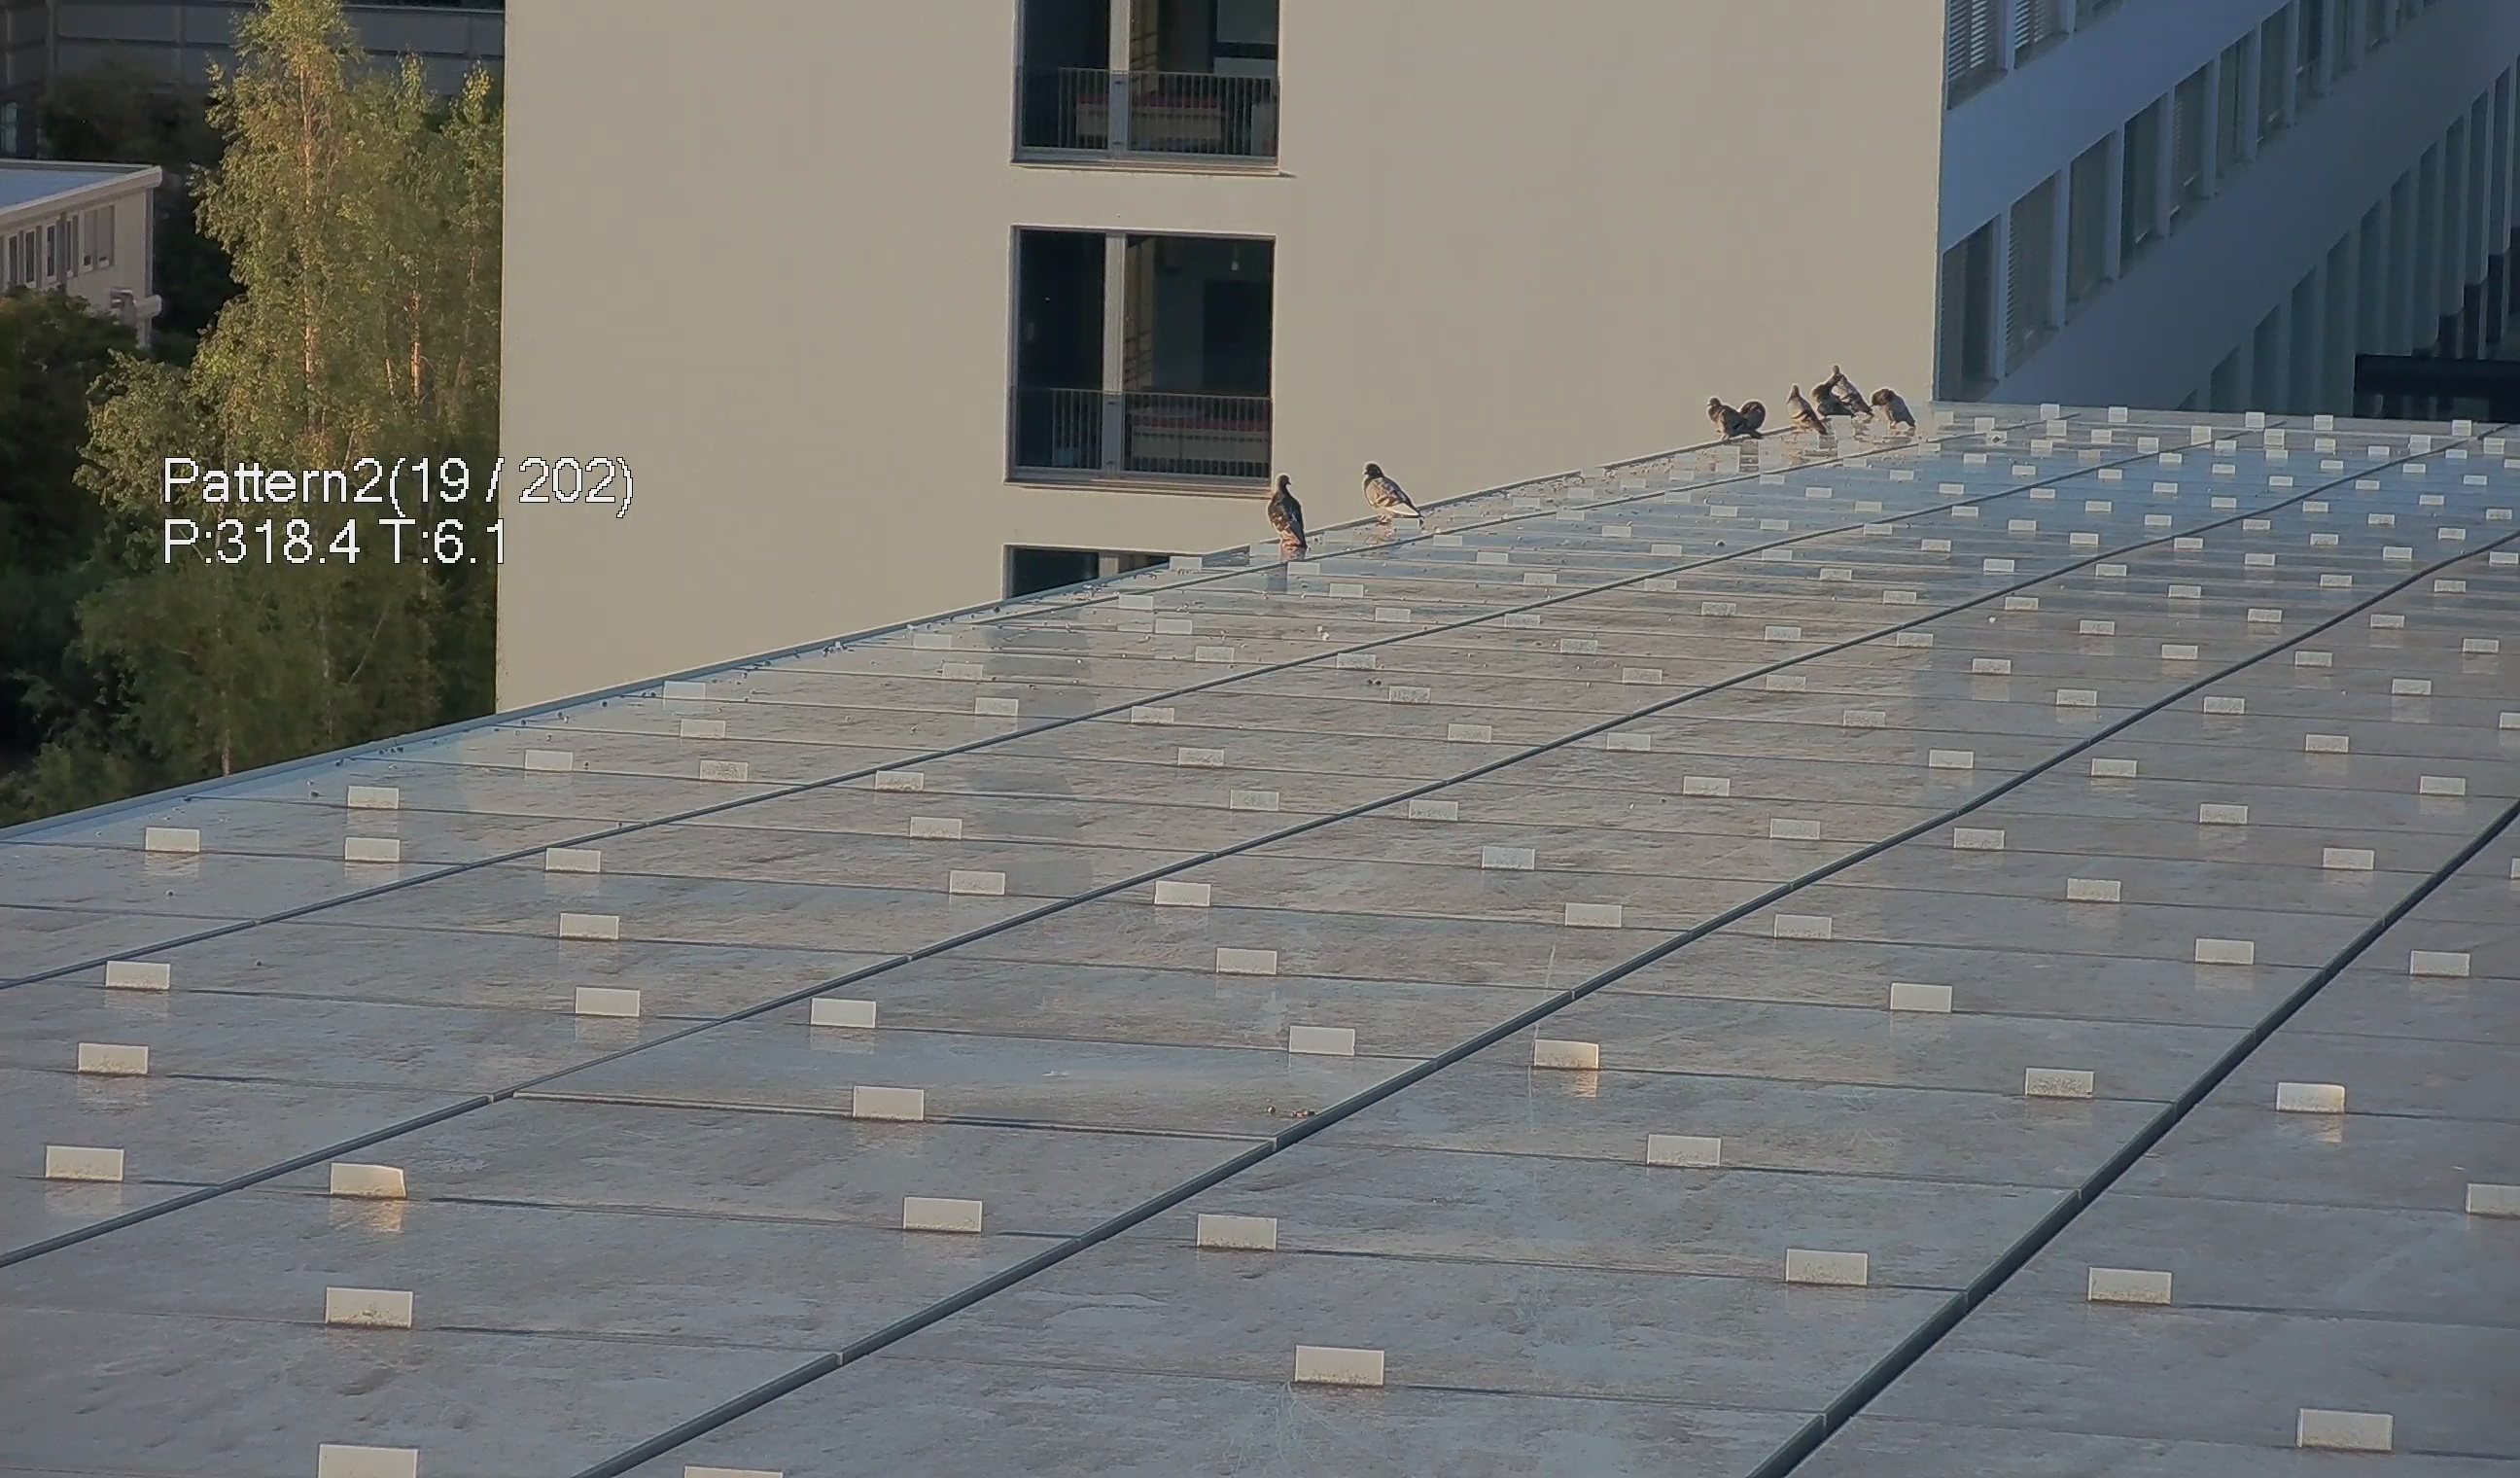Pigeon: (1359, 454, 1435, 530), (1266, 468, 1314, 554), (1869, 380, 1924, 433), (1706, 399, 1762, 445), (1783, 384, 1827, 442), (1810, 382, 1854, 421), (1832, 373, 1864, 419)
